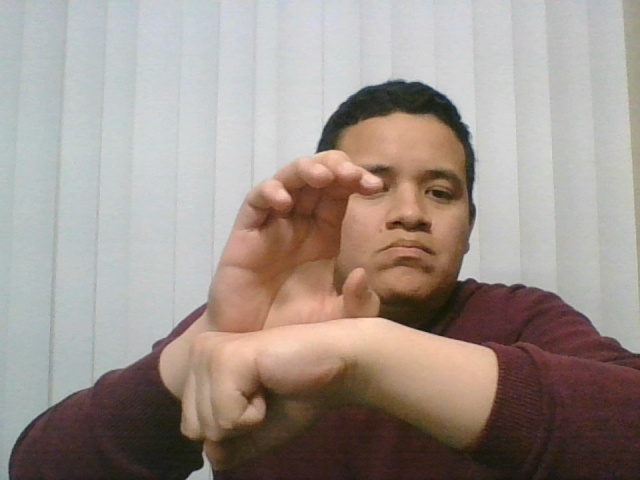Church: (158, 139, 396, 472)
